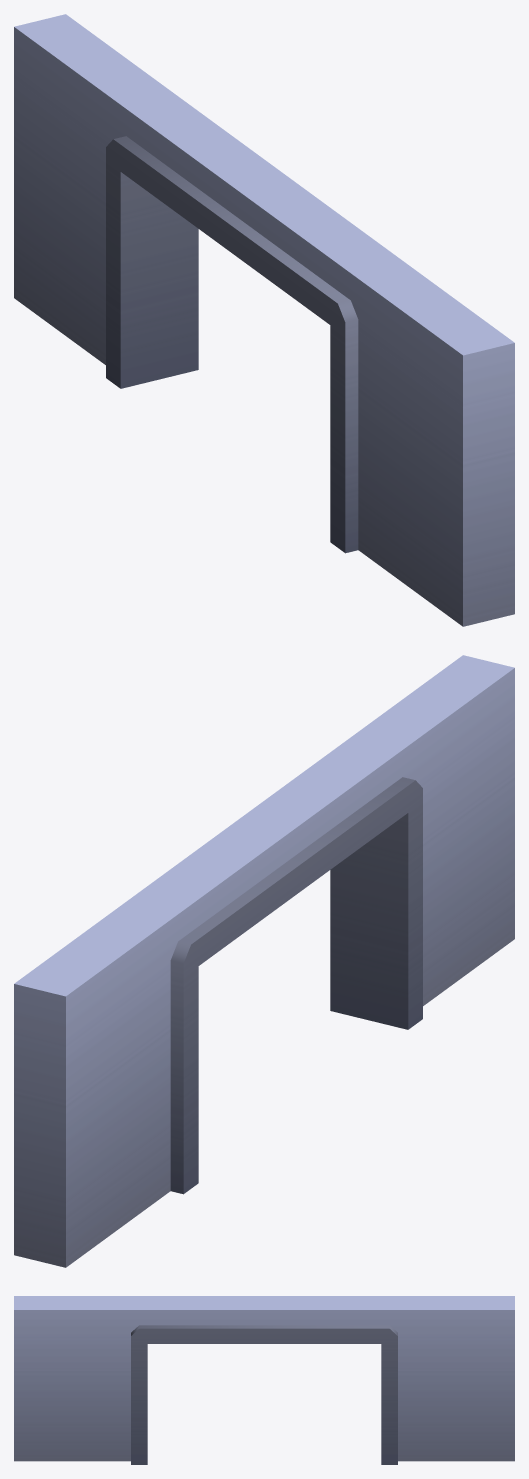
Rendered from wall-doorway-wide-sliding.fbx.
3 views of the same model, one above another, from view 1: azimuth 30°, elevation 25°; view 2: azimuth 150°, elevation 25°; view 3: azimuth 270°, elevation 25° (orthographic). The views are drawn at different scales.
Parts seen in each view (by area): view 1: wall-doorway-wide-sliding; view 2: wall-doorway-wide-sliding; view 3: wall-doorway-wide-sliding.
Part boxes in pixels (x1,y1,x2,y2): wall-doorway-wide-sliding: (14, 14, 514, 626); wall-doorway-wide-sliding: (14, 655, 514, 1267); wall-doorway-wide-sliding: (14, 1296, 514, 1464).
Bounding box in the file's own units: 30 × 100 × 300.
